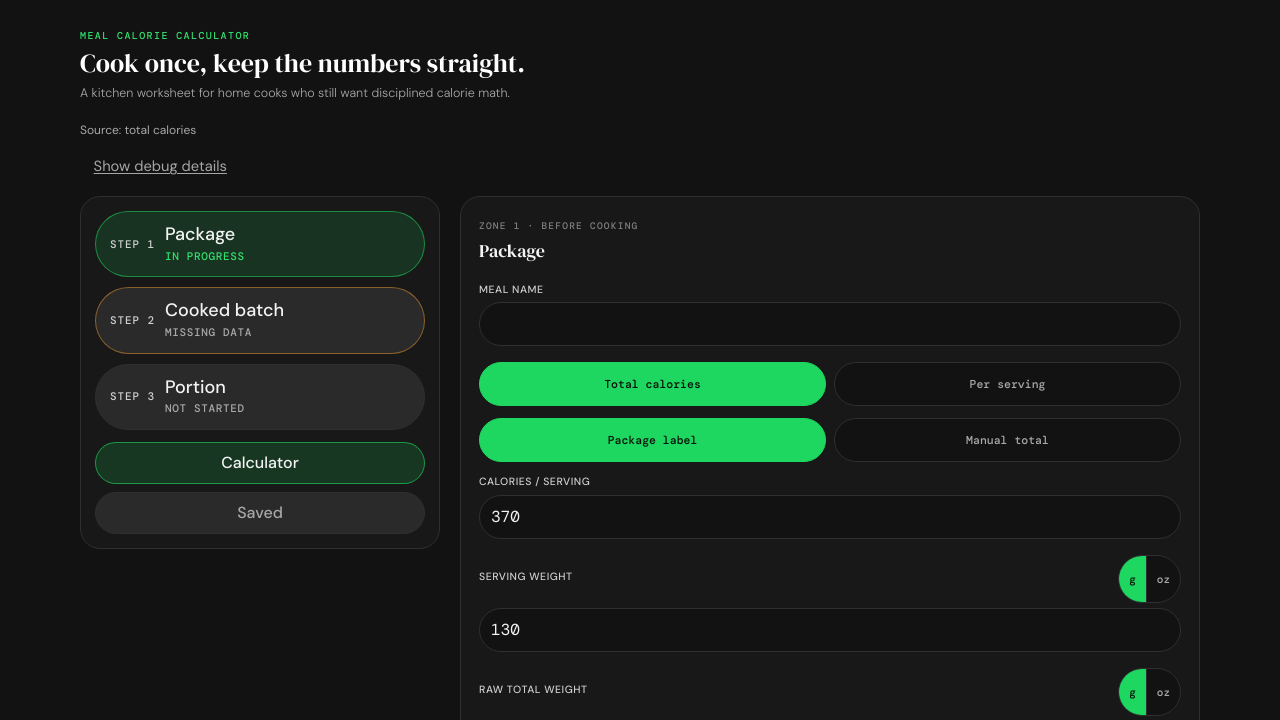
Scenario: ZoneLayout › renders Zone 2 density block with formatter copy when cooked weight is absent
Click the button "Step 2 Cooked batch Missing data": (260, 320) [95, 287, 425, 354]
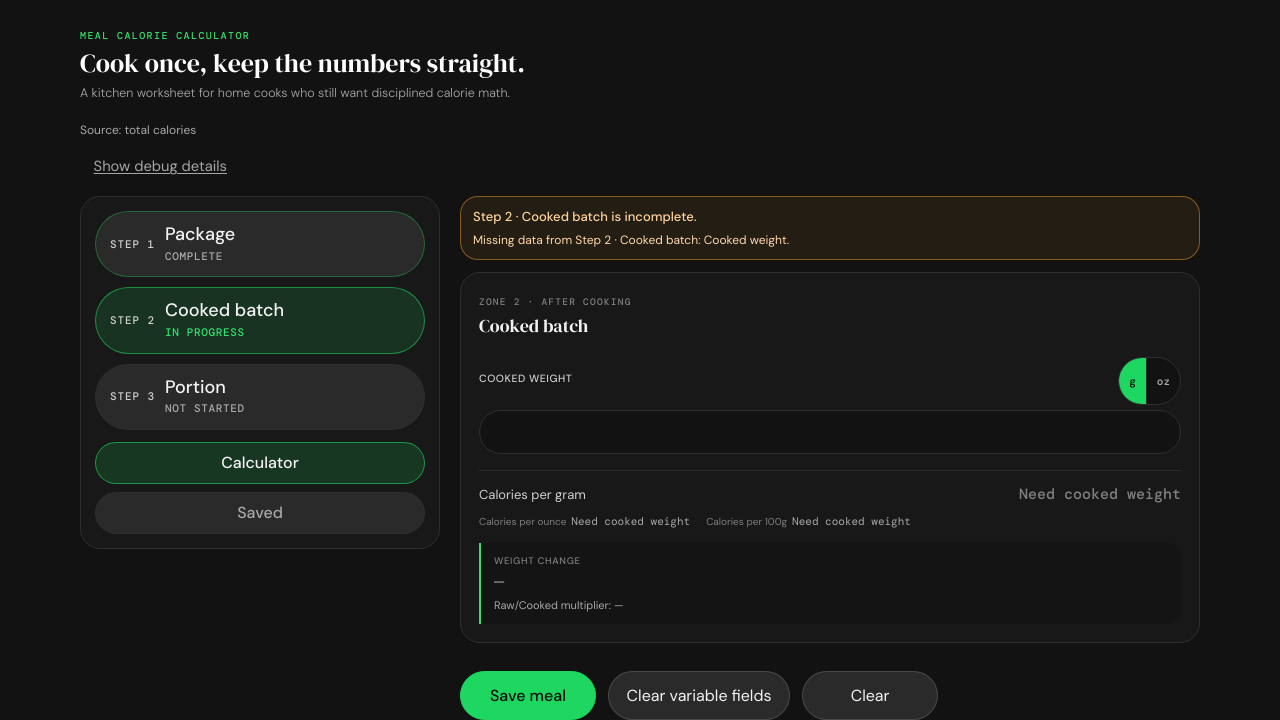
Now the element with test id "density-primary" shows "Need cooked weight", box [1019, 484, 1181, 504]
Now the element with test id "density-secondary" is shown, box [479, 514, 911, 528]
